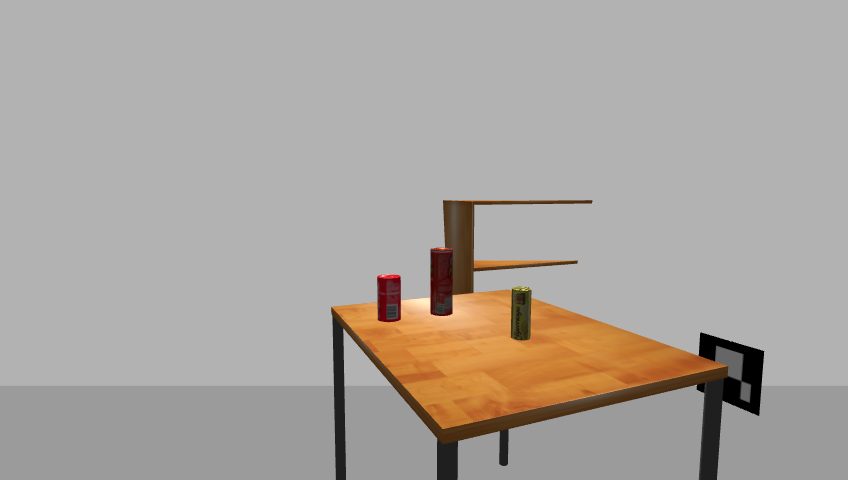aruco marker: (692, 332, 769, 417)
biscuits pack: (509, 287, 534, 342)
bookshelf: (438, 195, 598, 361)
coke can: (375, 274, 403, 323)
dinner table: (323, 291, 732, 480)
pringles can: (428, 247, 455, 317)
